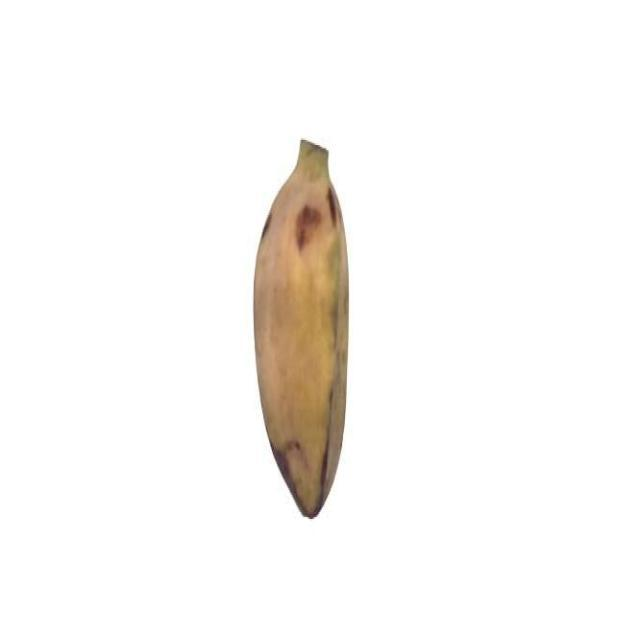banana: (250, 136, 352, 520)
